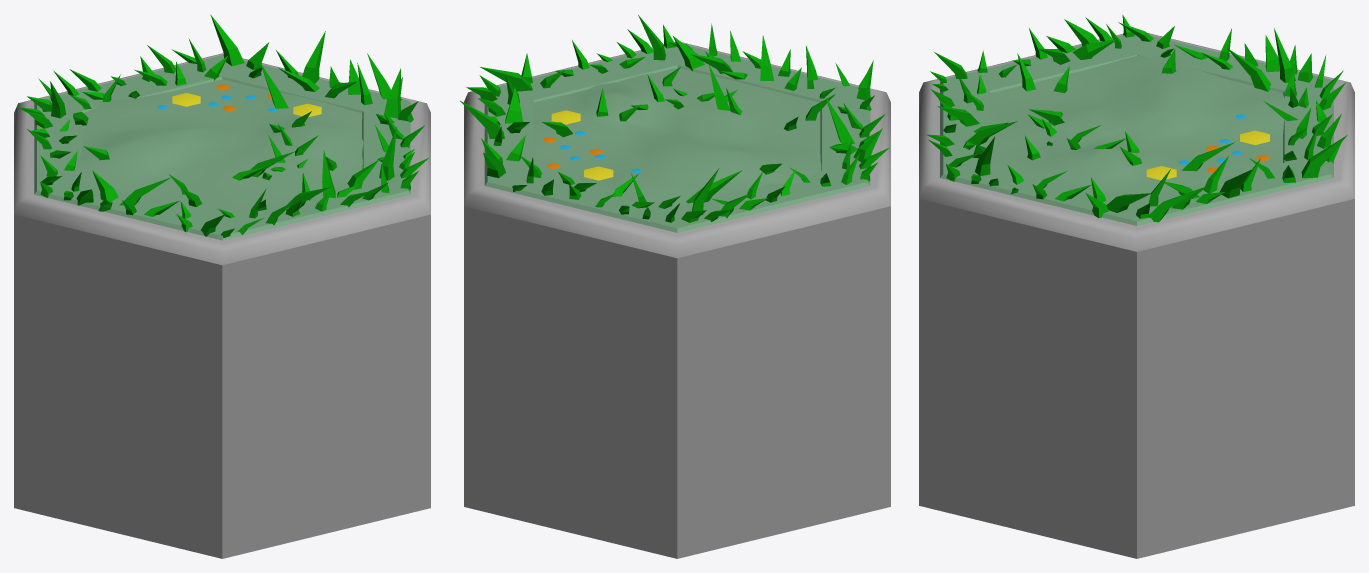
The model's file is presentation_tile0.fbx.
3 renders of one model, left to right at view 1: azimuth 30°, elevation 25°; view 2: azimuth 150°, elevation 25°; view 3: azimuth 270°, elevation 25°, orthographic. The views are drawn at different scales.
Parts seen in each view (by area): view 1: presentation_tile0; view 2: presentation_tile0; view 3: presentation_tile0.
Boxes of the visible parts, <box> form: presentation_tile0: <box>14,14,430,558</box>; presentation_tile0: <box>460,15,890,558</box>; presentation_tile0: <box>919,14,1354,558</box>.
Size of the model in its own units: 3.88 by 3.15 by 3.36.
